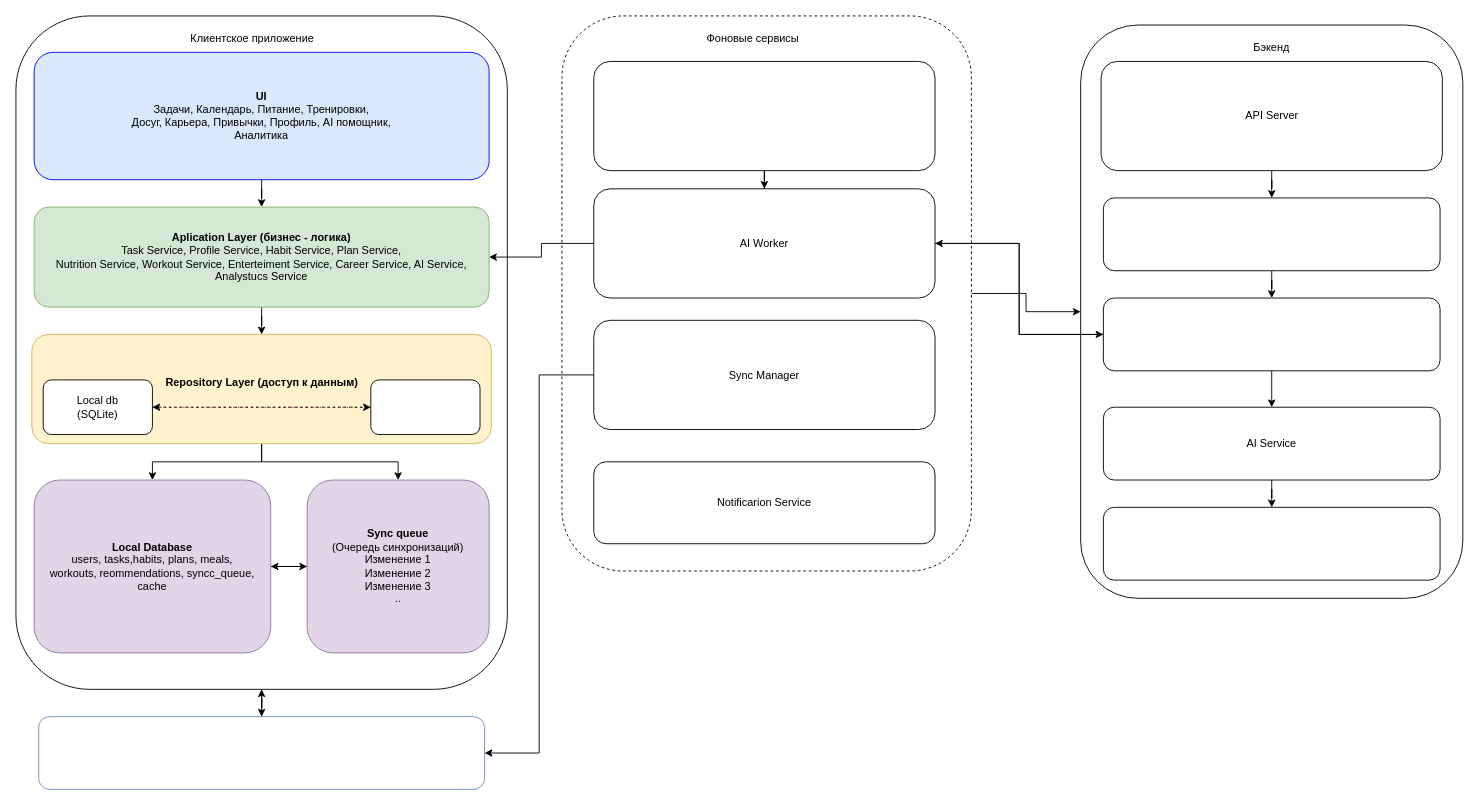
This 1479x805 diagram has some shape labels left out. Each missing label, with the centre of its shape:
"AI Queue" goes at point 764,116.
"LLM" goes at point 1271,543.
"Network Monitor" goes at point 261,752.
"Remote repository (Api Client)" goes at point 425,407.
"База данных" goes at point 1271,234.
"Очередь задач" goes at point 1271,334.
